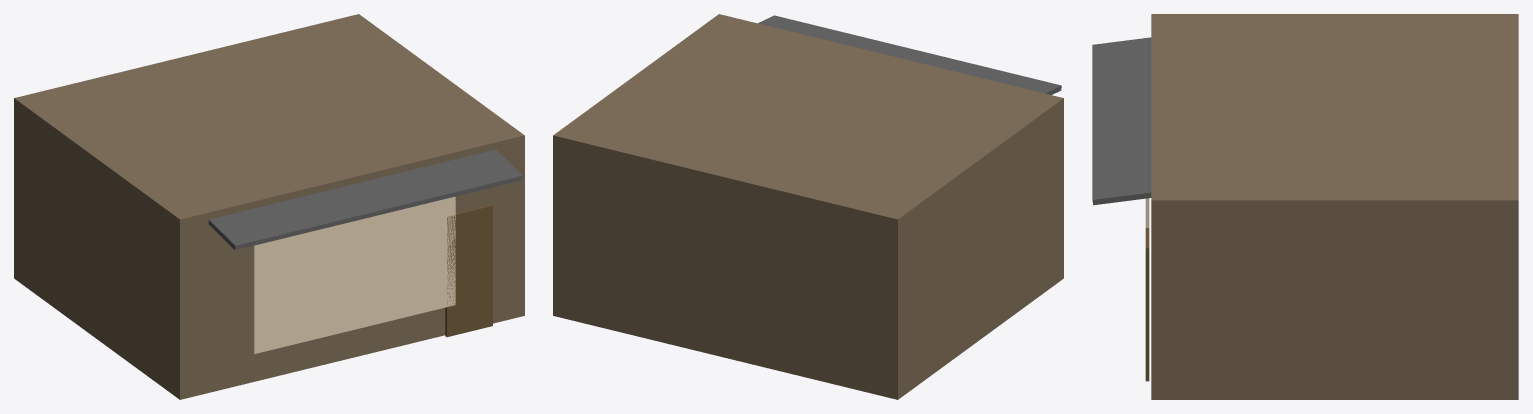
File: env-mod-restaurant.glb
3 renders of one model, left to right at view 1: azimuth 30°, elevation 25°; view 2: azimuth 150°, elevation 25°; view 3: azimuth 270°, elevation 25°, orthographic. The views are drawn at different scales.
Bounding box in the file's own units: 6 × 3 × 5.8.
